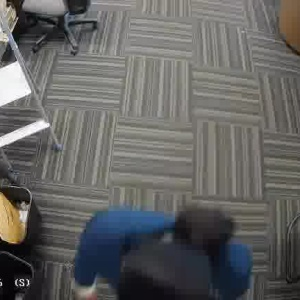person: (77, 207, 234, 300)
